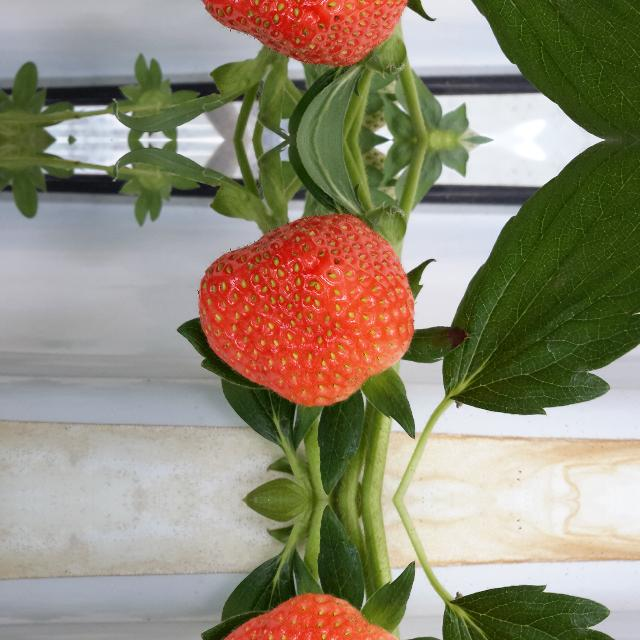Health_100: (197, 211, 415, 405), (197, 0, 415, 69), (197, 595, 415, 640)
